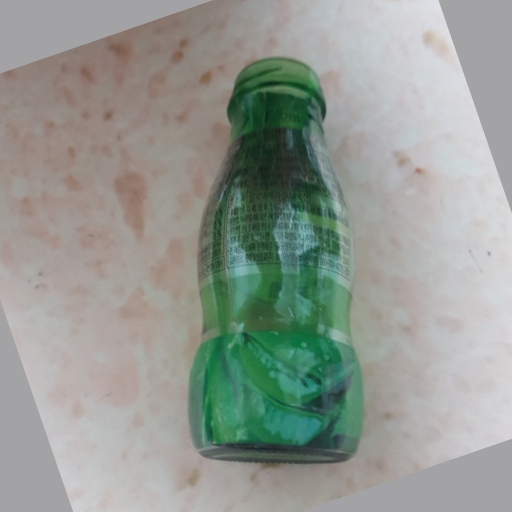Glass_4: (187, 58, 372, 460)
